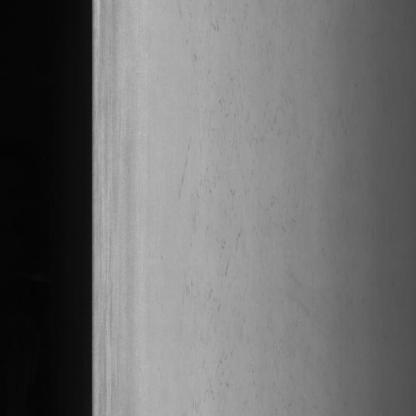silk_spot: (168, 22, 284, 360)
